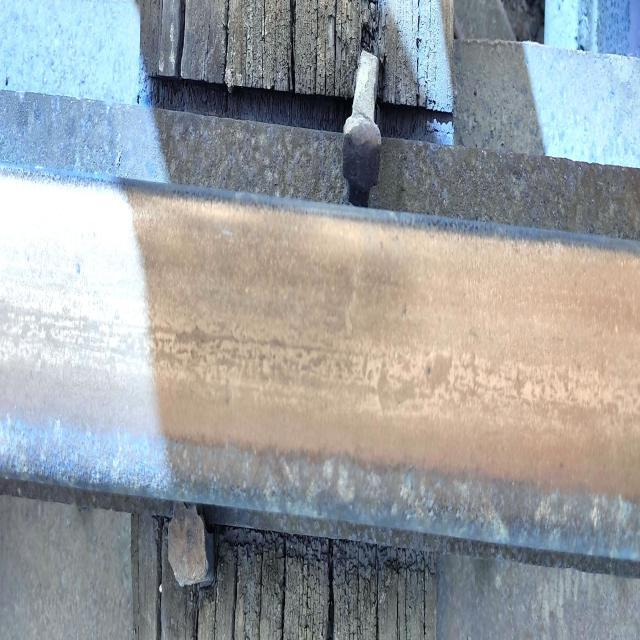Good Fasteners: (342, 50, 381, 206), (168, 503, 209, 586)
